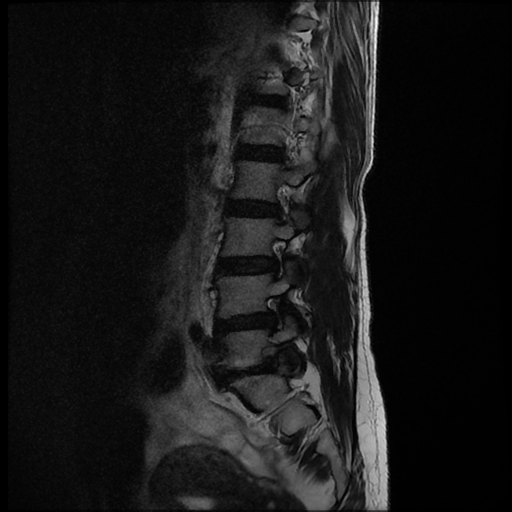LFS0: (257, 233, 297, 283)
LFS1: (255, 288, 293, 337)
